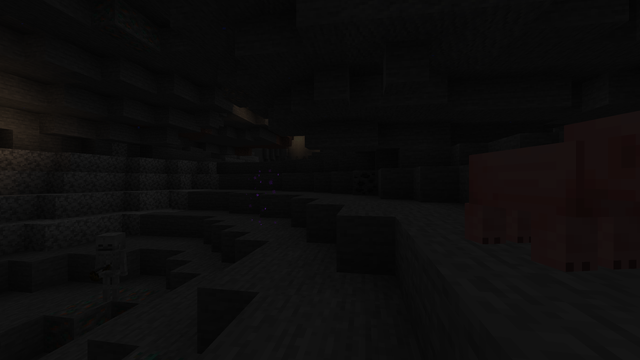cochons: (465, 138, 631, 272)
squelettes: (92, 232, 128, 306)
